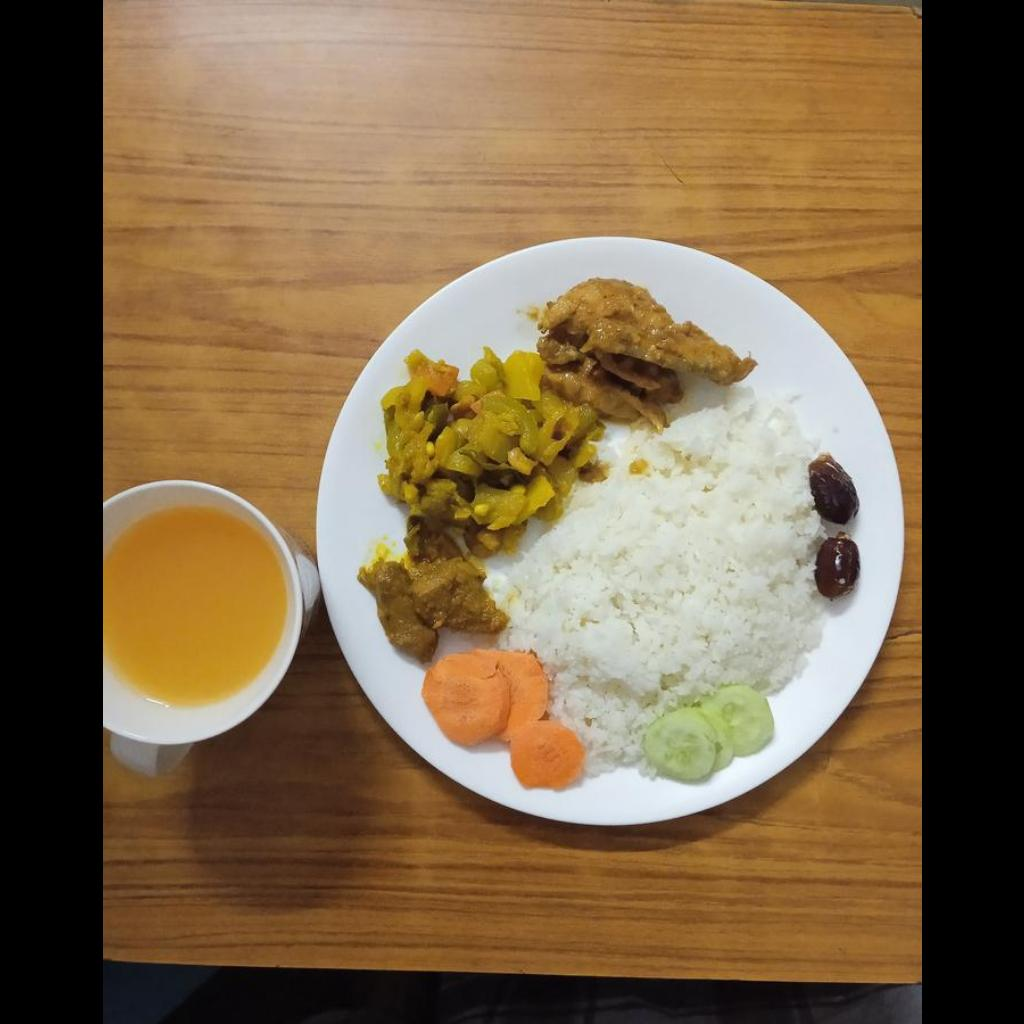beef: (356, 559, 505, 661)
carrot: (421, 643, 582, 787)
chicken: (536, 278, 759, 425)
cucumber: (649, 688, 776, 788)
dates: (808, 459, 860, 589)
juice: (102, 511, 282, 707)
rice: (495, 393, 821, 771)
vegetable: (381, 349, 597, 552)
